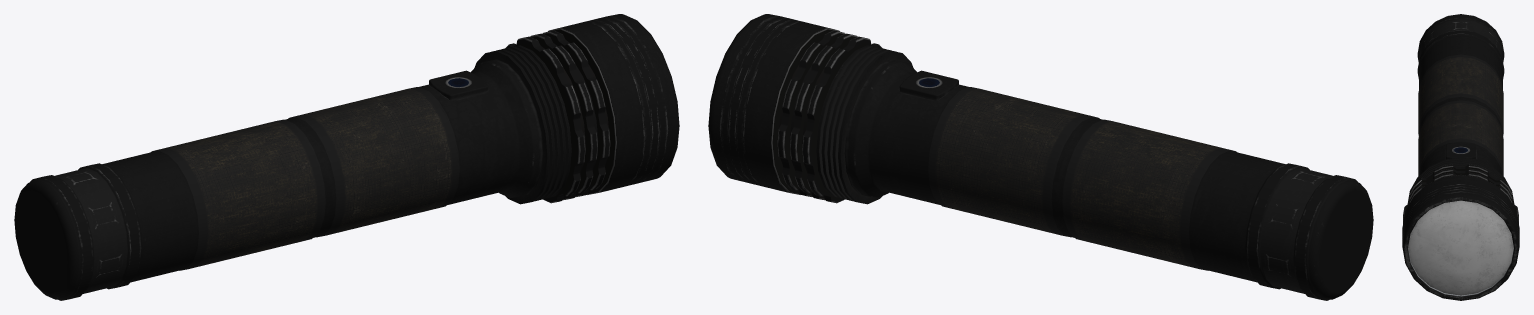
File: flashlight_itemModel.fbx
The picture shows the model from 3 angles, left to right: view 1: azimuth 30°, elevation 25°; view 2: azimuth 150°, elevation 25°; view 3: azimuth 270°, elevation 25°; orthographic projection. The views are drawn at different scales.
Visible parts, largest first — view 1: flashlight; view 2: flashlight; view 3: flashlight.
Boxes of the visible parts, box(x1,y1,x2,y2) form: flashlight: box(14, 14, 679, 300); flashlight: box(708, 14, 1373, 300); flashlight: box(1402, 14, 1519, 300).
Size of the model in its own units: 80.16 by 19.67 by 19.67.
Materials: 1 (1 with a texture image).
